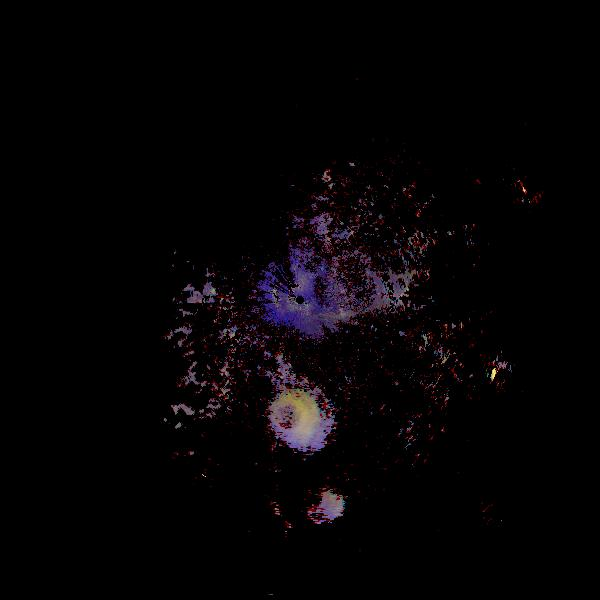roost: (267, 395, 318, 446), (300, 482, 348, 530)
